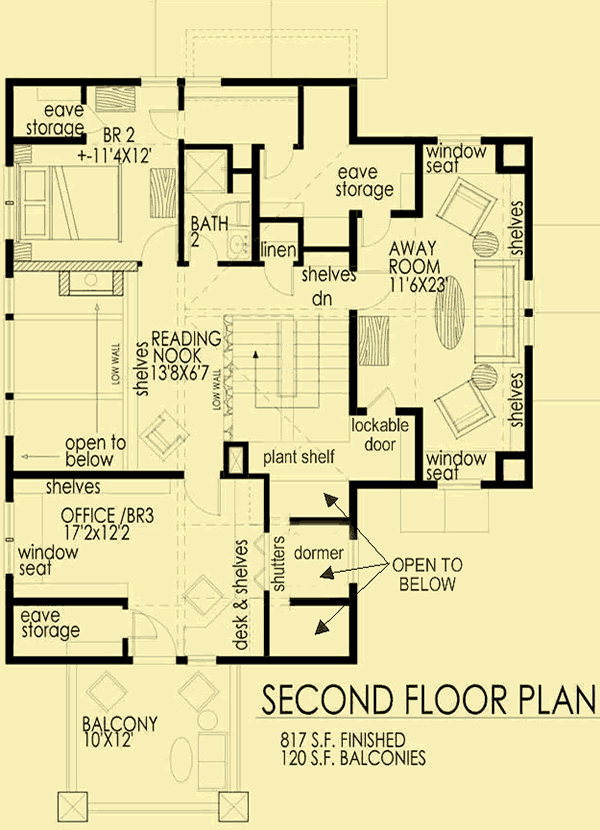bed: (10, 164, 128, 246)
door: (129, 609, 184, 667), (345, 262, 401, 312), (176, 469, 224, 522), (134, 223, 185, 270), (257, 139, 302, 185), (353, 204, 392, 252), (144, 103, 188, 145), (120, 601, 160, 646), (185, 229, 225, 271), (365, 379, 403, 423), (262, 258, 296, 300)
large sink: (210, 195, 253, 229)
large sofa: (470, 256, 521, 367), (195, 728, 231, 798)
small sofa: (432, 176, 500, 241), (437, 376, 498, 441), (139, 407, 192, 464), (81, 663, 136, 717), (176, 664, 223, 713), (178, 569, 224, 619)
stairs: (226, 314, 360, 445)
windows: (1, 274, 20, 445), (518, 270, 540, 355), (1, 496, 22, 581), (133, 73, 231, 90), (343, 534, 363, 586), (434, 479, 489, 495)
